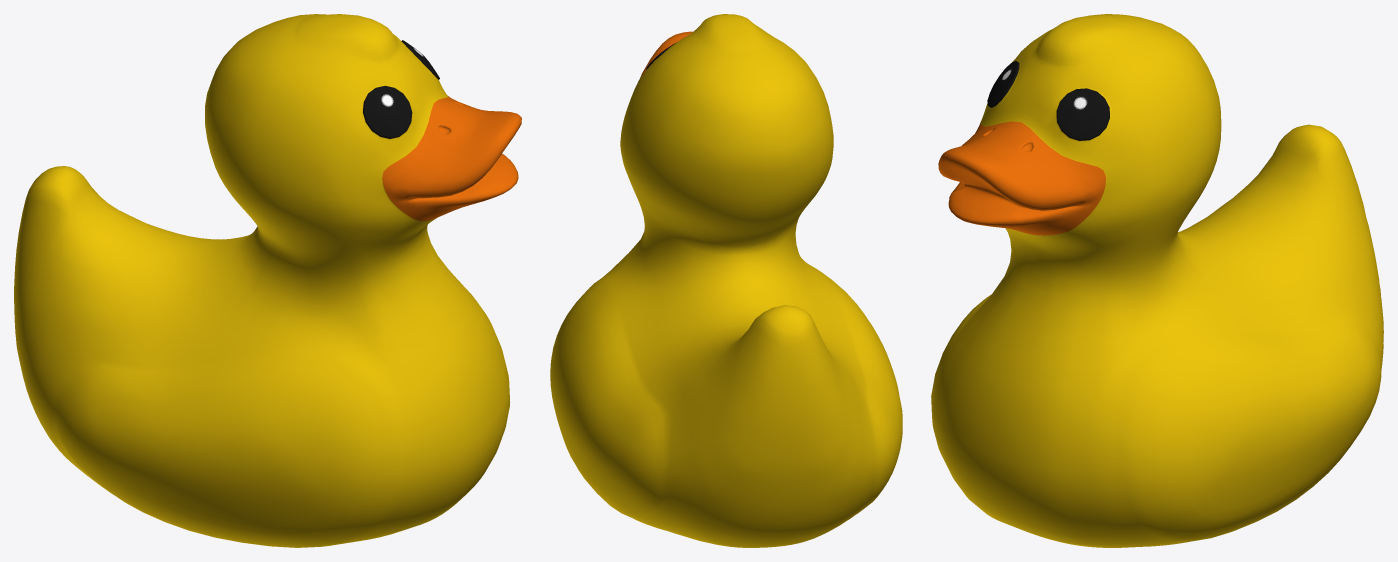
3 views of the same model, side by side, from view 1: azimuth 30°, elevation 25°; view 2: azimuth 150°, elevation 25°; view 3: azimuth 270°, elevation 25° (orthographic). The views are drawn at different scales.
Visible parts, largest first — view 1: duckobjcleanermaterialmergergles; view 2: duckobjcleanermaterialmergergles; view 3: duckobjcleanermaterialmergergles.
Part boxes in pixels (<box>): duckobjcleanermaterialmergergles: <box>14,14,521,547</box>; duckobjcleanermaterialmergergles: <box>550,14,902,547</box>; duckobjcleanermaterialmergergles: <box>931,14,1383,547</box>.
Size of the model in its own units: 1.72 by 2.09 by 1.74.
1 material, 1 textured.
